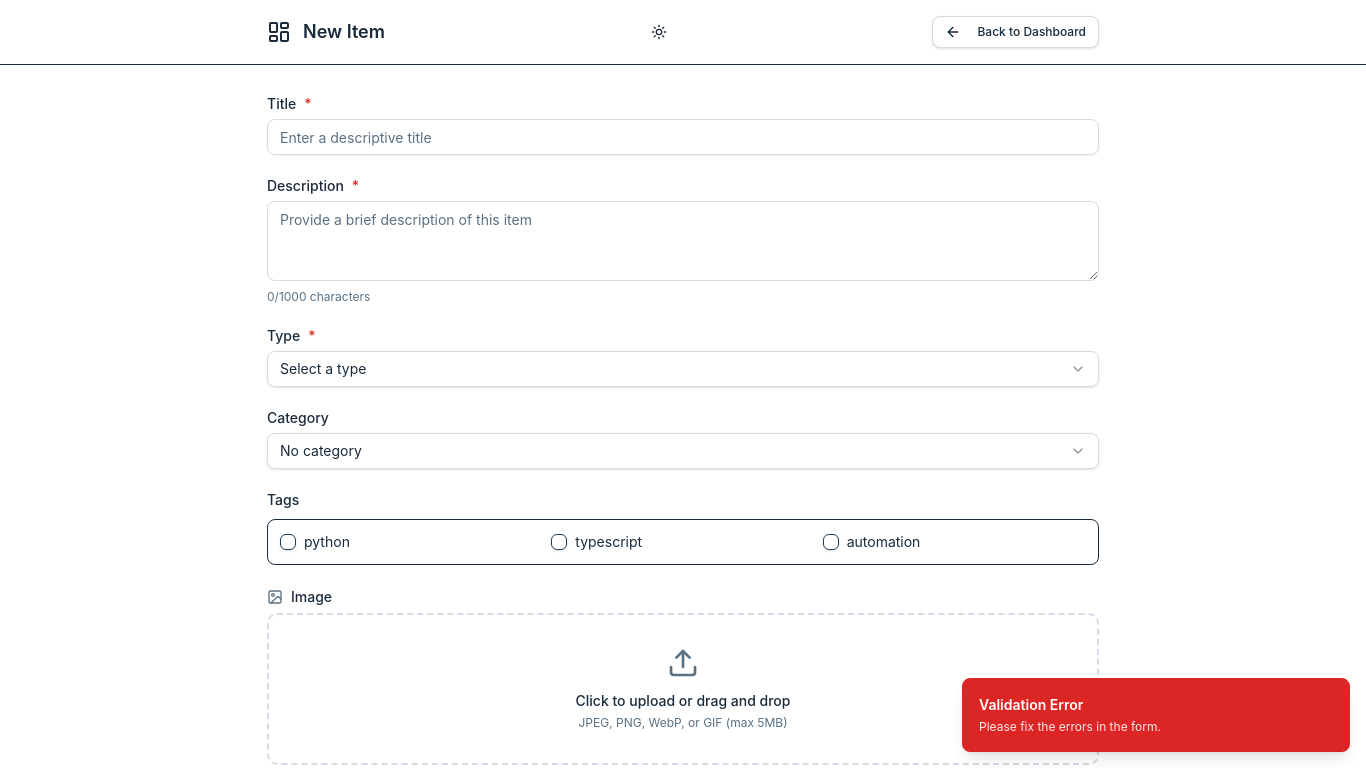
Test: Admin Create Item Flow › updates character count when typing in description
Expected: the text "0/1000 characters" is shown, [267, 289, 370, 304]
Type "Hello World" into the text box labelled "Description *".
click(683, 241); type("Hello World")  # box [267, 201, 1099, 281]
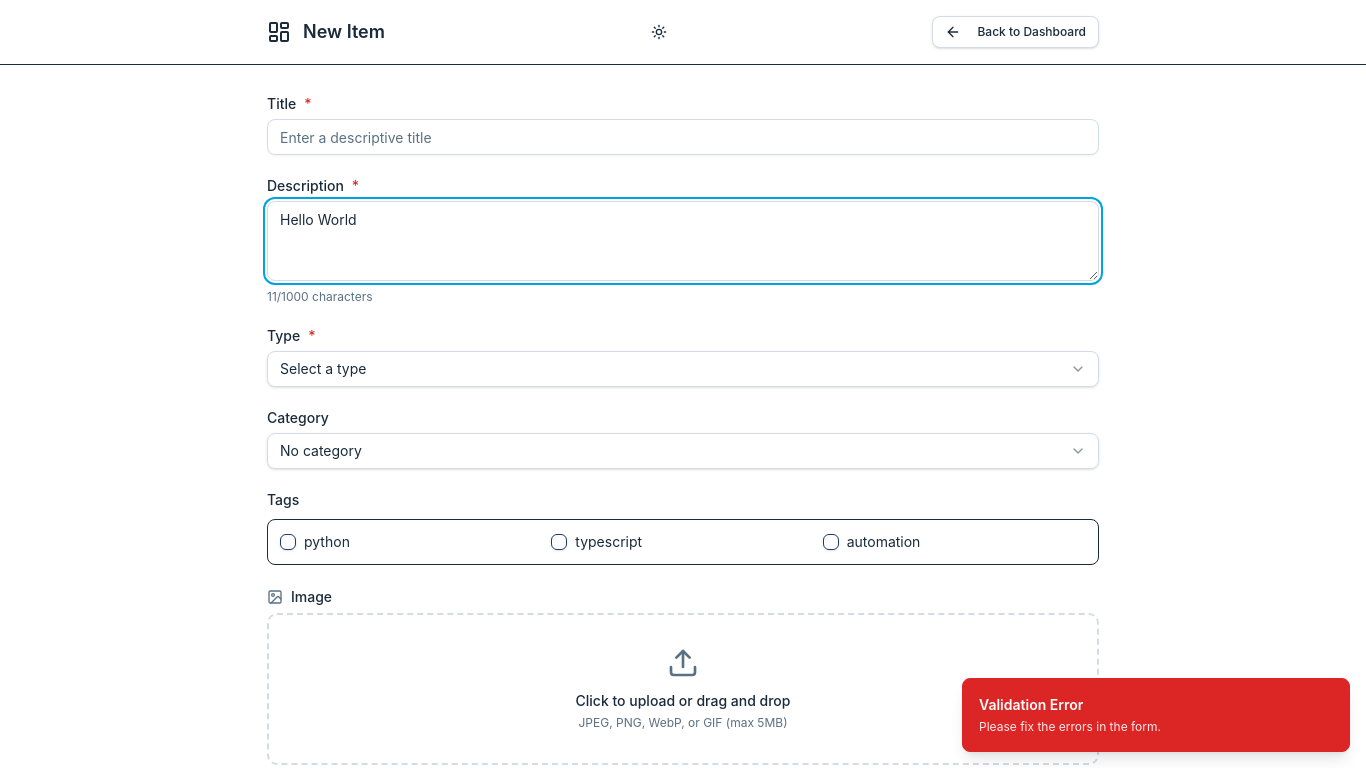
Now the text "11/1000 characters" is shown, box [267, 289, 372, 304]
